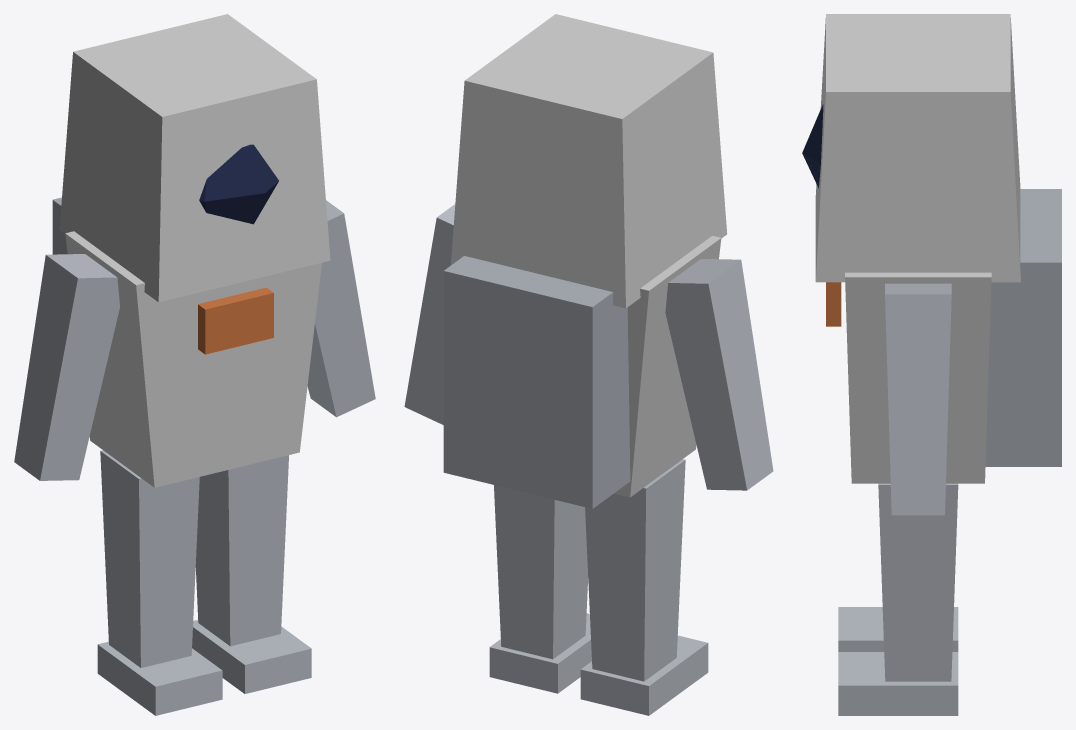
Rendered from astronaut.glb.
The picture shows the model from 3 angles, left to right: view 1: azimuth 30°, elevation 25°; view 2: azimuth 150°, elevation 25°; view 3: azimuth 270°, elevation 25°; orthographic projection. The views are drawn at different scales.
Visible parts, largest first — view 1: astronaut; view 2: astronaut; view 3: astronaut.
Boxes of the visible parts, x1,y1,x2,y2 form: astronaut: (14,14,375,715); astronaut: (404,14,773,715); astronaut: (802,14,1061,715).
Bounding box in the file's own units: 0.782 × 1.34 × 0.5067.
